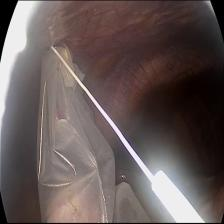Specimen Bag: (30, 42, 152, 224)
